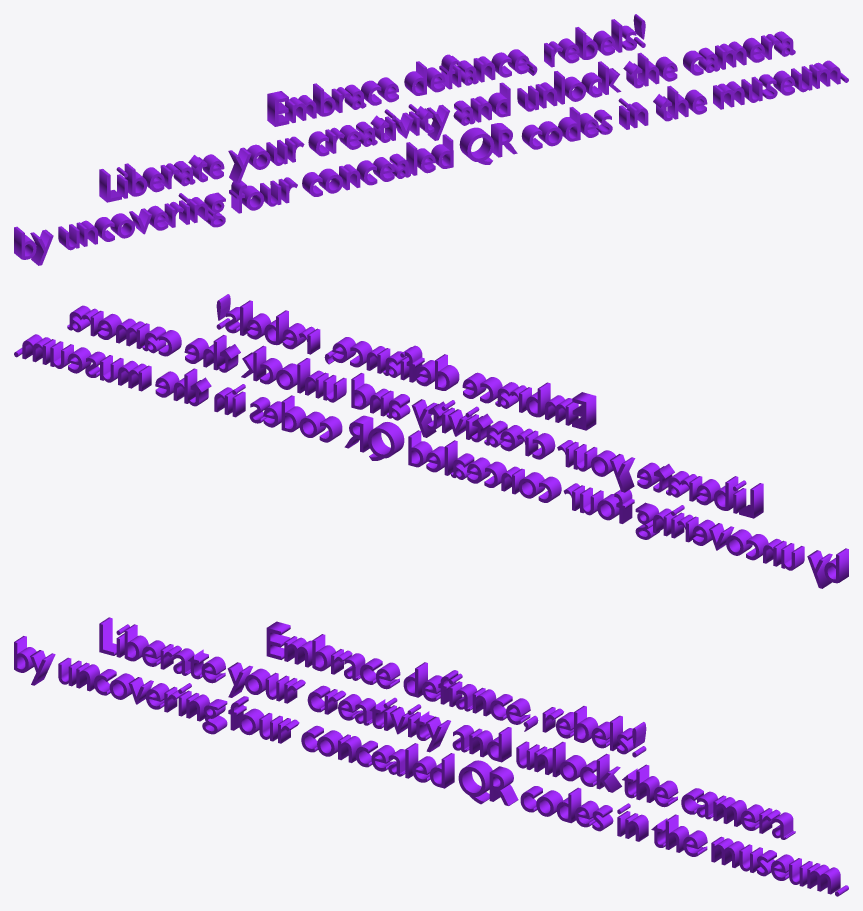
The model's file is Start.glb.
3 views of the same model, one above another, from view 1: azimuth 30°, elevation 25°; view 2: azimuth 150°, elevation 25°; view 3: azimuth 330°, elevation 25° (orthographic). The views are drawn at different scales.
Visible parts, largest first — view 1: 3_by; view 2: 3_by; view 3: 3_by.
Boxes of the visible parts, bbox=[...] form: 3_by: bbox=[14, 14, 848, 265]; 3_by: bbox=[14, 294, 848, 588]; 3_by: bbox=[14, 617, 848, 896].
Size of the model in its own units: 18.65 by 2.56 by 1.34.
